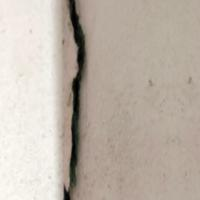crack: (41, 0, 122, 199)
